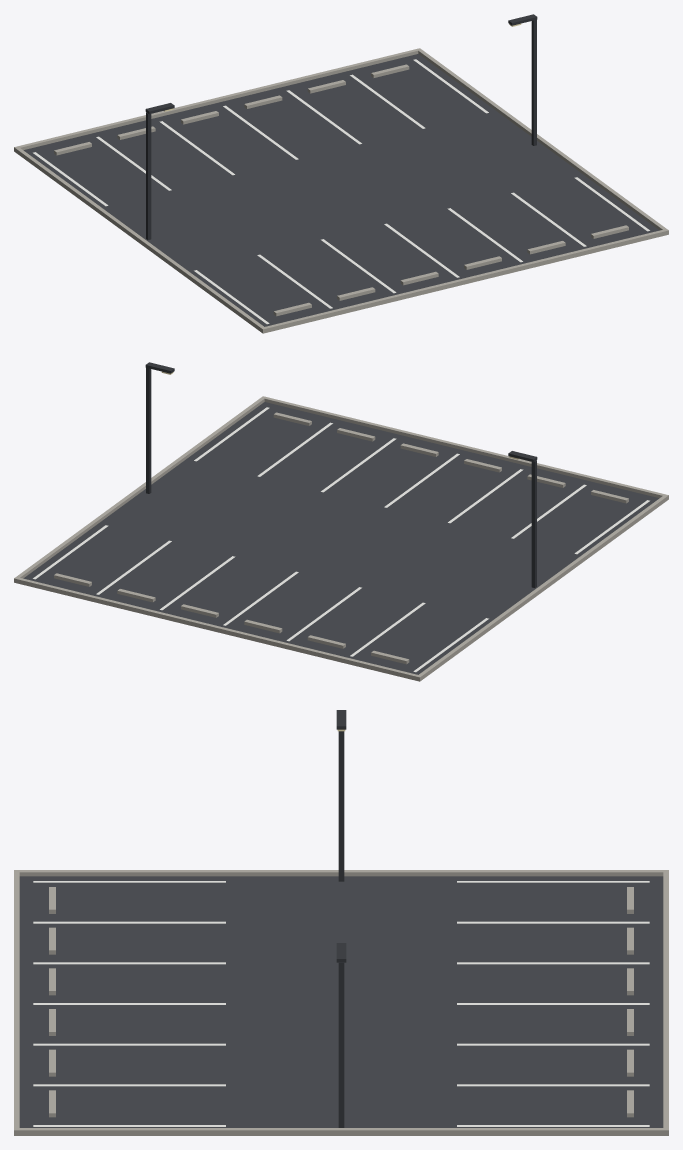
The model's file is parking_12.glb.
3 views of the same model, one above another, from view 1: azimuth 30°, elevation 25°; view 2: azimuth 150°, elevation 25°; view 3: azimuth 270°, elevation 25° (orthographic). The views are drawn at different scales.
Parts seen in each view (by area): view 1: parking_12; view 2: parking_12; view 3: parking_12.
Part boxes in pixels (bbox=[...]): parking_12: bbox=[14, 14, 668, 333]; parking_12: bbox=[14, 362, 668, 681]; parking_12: bbox=[14, 710, 668, 1135].
Bounding box in the file's own units: 16 × 4.9 × 17.
Materials: 1 (1 with a texture image).
